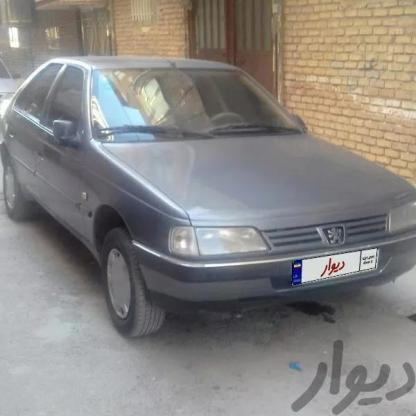Car: (0, 46, 416, 326)
